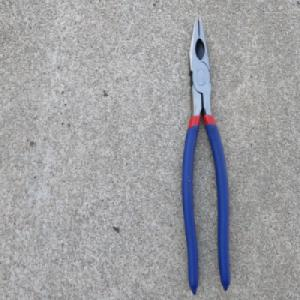Pliers: (179, 13, 232, 293)
